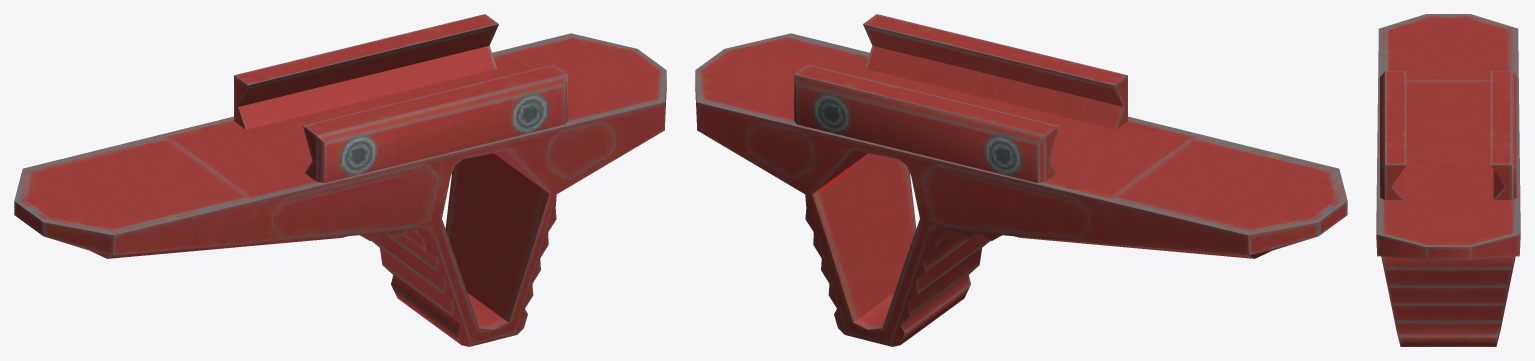
File: ST_Grip_HalfGrip.FBX
3 renders of one model, left to right at view 1: azimuth 30°, elevation 25°; view 2: azimuth 150°, elevation 25°; view 3: azimuth 270°, elevation 25°, orthographic. The views are drawn at different scales.
Parts seen in each view (by area): view 1: ST_Grip_HalfGrip; view 2: ST_Grip_HalfGrip; view 3: ST_Grip_HalfGrip.
Part boxes in pixels (<box>): ST_Grip_HalfGrip: <box>14,14,666,346</box>; ST_Grip_HalfGrip: <box>695,14,1347,346</box>; ST_Grip_HalfGrip: <box>1376,14,1520,346</box>.
Size of the model in its own units: 10.22 by 4.04 by 2.68.
1 material, 1 textured.
